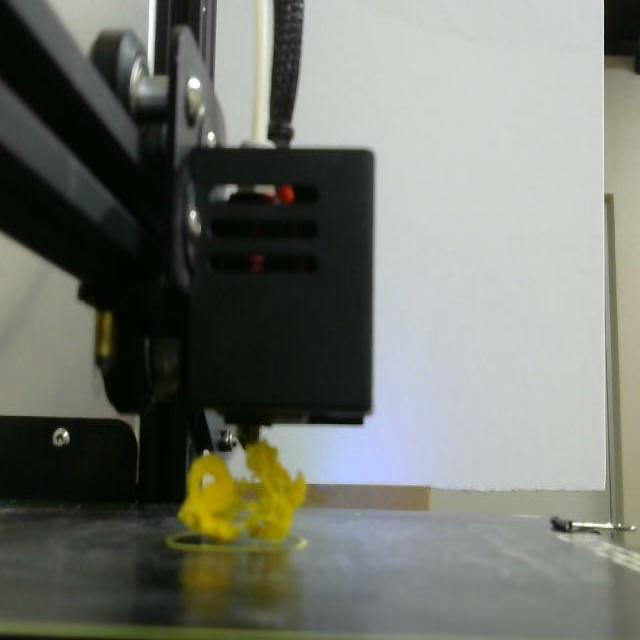spaghetti: (179, 442, 306, 542)
